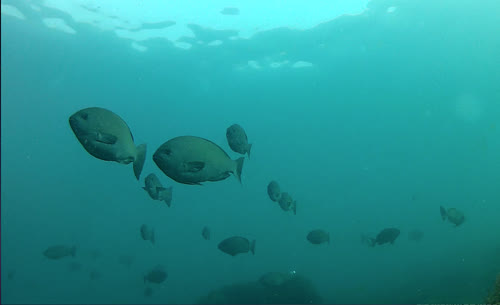gure: (58, 98, 149, 191)
